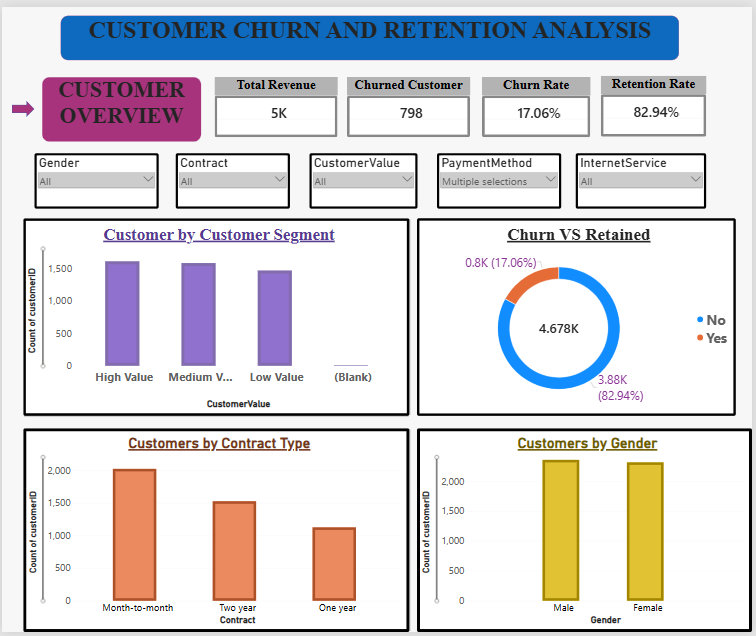

Layout of this report page (visuals, bound fields, positions):
{"tool":"powerbi","page":{"name":"Customer Overview","canvas":[3000,2500],"ordinal":0},"visuals":[{"type":"textbox","box":[236.4,36.4,2472.7,177.3],"z":0},{"type":"textbox","box":[159.3,277.8,637,259.3],"z":1000},{"type":"shape","box":[40.7,374.1,90,65],"z":2000},{"type":"cardVisual","title":"Total Revenue ","fields":{"Data":["Customer_Account.Total Customer"]},"box":[848.1,277.8,492.6,240.7],"z":3000},{"type":"cardVisual","title":"Churned Customer ","fields":{"Data":["Customer_Churn.Churned Customers"]},"box":[1381.5,281.5,492.6,240.7],"z":4000},{"type":"cardVisual","title":"Churn Rate","fields":{"Data":["Customer_Churn.Churn Rate","Customer_Churn.Churn Rate"]},"box":[1918.5,277.8,433.3,240.7],"z":5000},{"type":"cardVisual","title":"Retention Rate","fields":{"Data":["Customer_Churn.Retention Rate"]},"box":[2396.3,274.1,422.2,244.4],"z":6000},{"type":"slicer","fields":{"Values":["Dim_Customer.gender"]},"box":[132.1,585.7,496.4,221.4],"z":7000},{"type":"donutChart","title":"Churn VS Retained","fields":{"Category":["Customer_Churn.Churn"],"Y":["CountNonNull(Customer_Account.customerID)"]},"box":[1660,845,1275,790],"z":8000},{"type":"clusteredColumnChart","title":"Customer by Customer Segment","fields":{"Category":["Customer_Account.CustomerValue"],"Y":["CountNonNull(Customer_Account.customerID)"]},"box":[85,845,1545,790],"z":9000},{"type":"slicer","fields":{"Values":["Customer_Account.CustomerValue"]},"box":[1232.1,585.7,432.1,221.4],"z":10000},{"type":"slicer","fields":{"Values":["Customer_Account.PaymentMethod"]},"box":[1739.3,585.7,496.4,221.4],"z":11000},{"type":"slicer","fields":{"Values":["Customer_Account.Contract"]},"box":[696.4,585.7,457.1,221.4],"z":12000},{"type":"slicer","fields":{"Values":["Dim_Services.InternetService"]},"box":[2296.4,585.7,521.4,221.4],"z":13000},{"type":"clusteredColumnChart","title":"Customers by Contract Type","fields":{"Category":["Customer_Account.Contract"],"Y":["CountNonNull(Customer_Account.customerID)"]},"box":[85,1685,1545,815],"z":14000},{"type":"clusteredColumnChart","title":"Customers by Gender","fields":{"Category":["Dim_Customer.Gender"],"Y":["CountNonNull(Customer_Account.customerID)"]},"box":[1660,1685,1340,815],"z":15000}]}

Visuals, with their boxes in screenshot pixels (x1, y1, x2, y2), scaled from the page's 3000x2500 canvas onto the 756x636 screenshot:
textbox: (60, 9, 683, 54)
textbox: (40, 71, 201, 137)
shape: (10, 95, 33, 112)
"Total Revenue " cardVisual: (214, 71, 338, 132)
"Churned Customer " cardVisual: (348, 72, 472, 133)
"Churn Rate" cardVisual: (483, 71, 593, 132)
"Retention Rate" cardVisual: (604, 70, 710, 132)
slicer - Dim_Customer.gender: (33, 149, 158, 205)
"Churn VS Retained" donutChart: (418, 215, 740, 416)
"Customer by Customer Segment" clusteredColumnChart: (21, 215, 411, 416)
slicer - Customer_Account.CustomerValue: (310, 149, 419, 205)
slicer - Customer_Account.PaymentMethod: (438, 149, 563, 205)
slicer - Customer_Account.Contract: (175, 149, 291, 205)
slicer - Dim_Services.InternetService: (579, 149, 710, 205)
"Customers by Contract Type" clusteredColumnChart: (21, 429, 411, 635)
"Customers by Gender" clusteredColumnChart: (418, 429, 755, 635)
